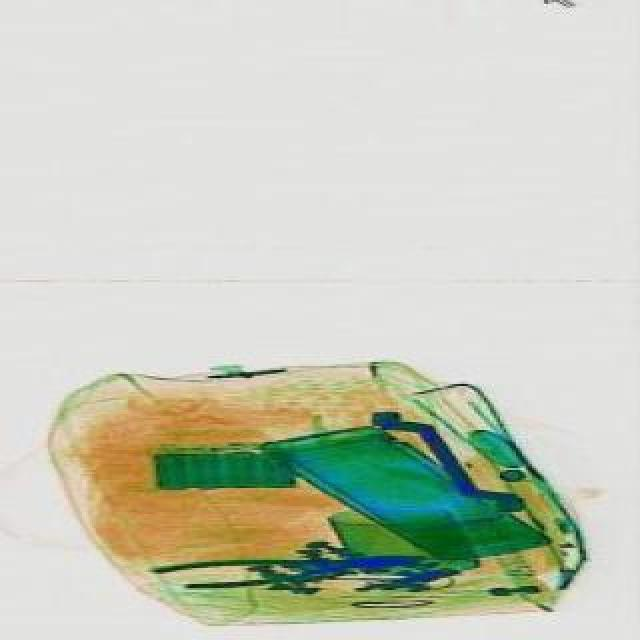wrench: (146, 544, 418, 594)
